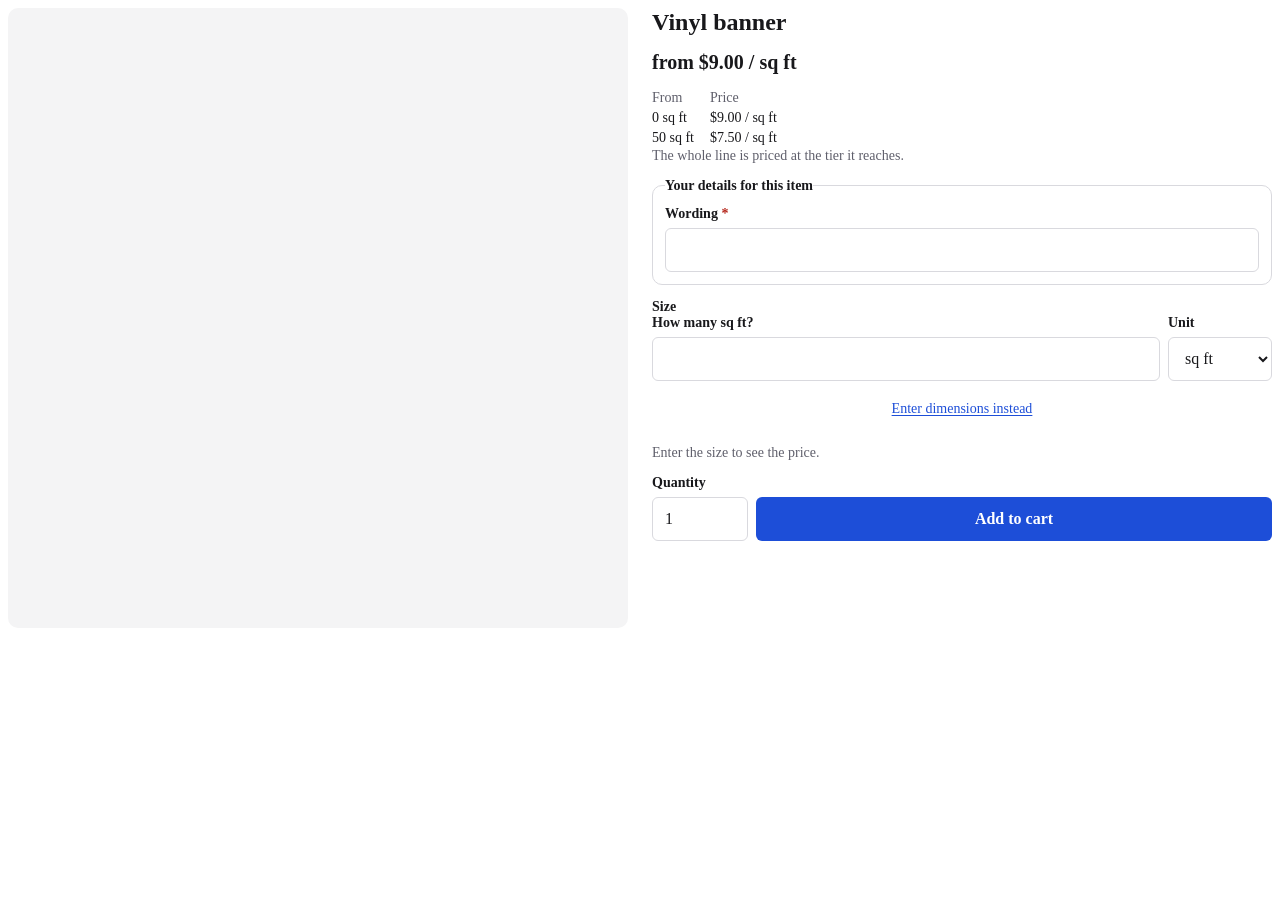
Test: <ListingDetail> › prices a typed size with a one-line quote and keeps a half-typed draft
Expected: the text "from $9.00 / sq ft" is shown, [652, 51, 797, 73]
Expected: the text "Enter the size to see the price." is shown, [652, 445, 820, 460]
Type "9." into the field labelled "How many sq ft?".
click(906, 359); type("9.")  # box [652, 337, 1160, 381]
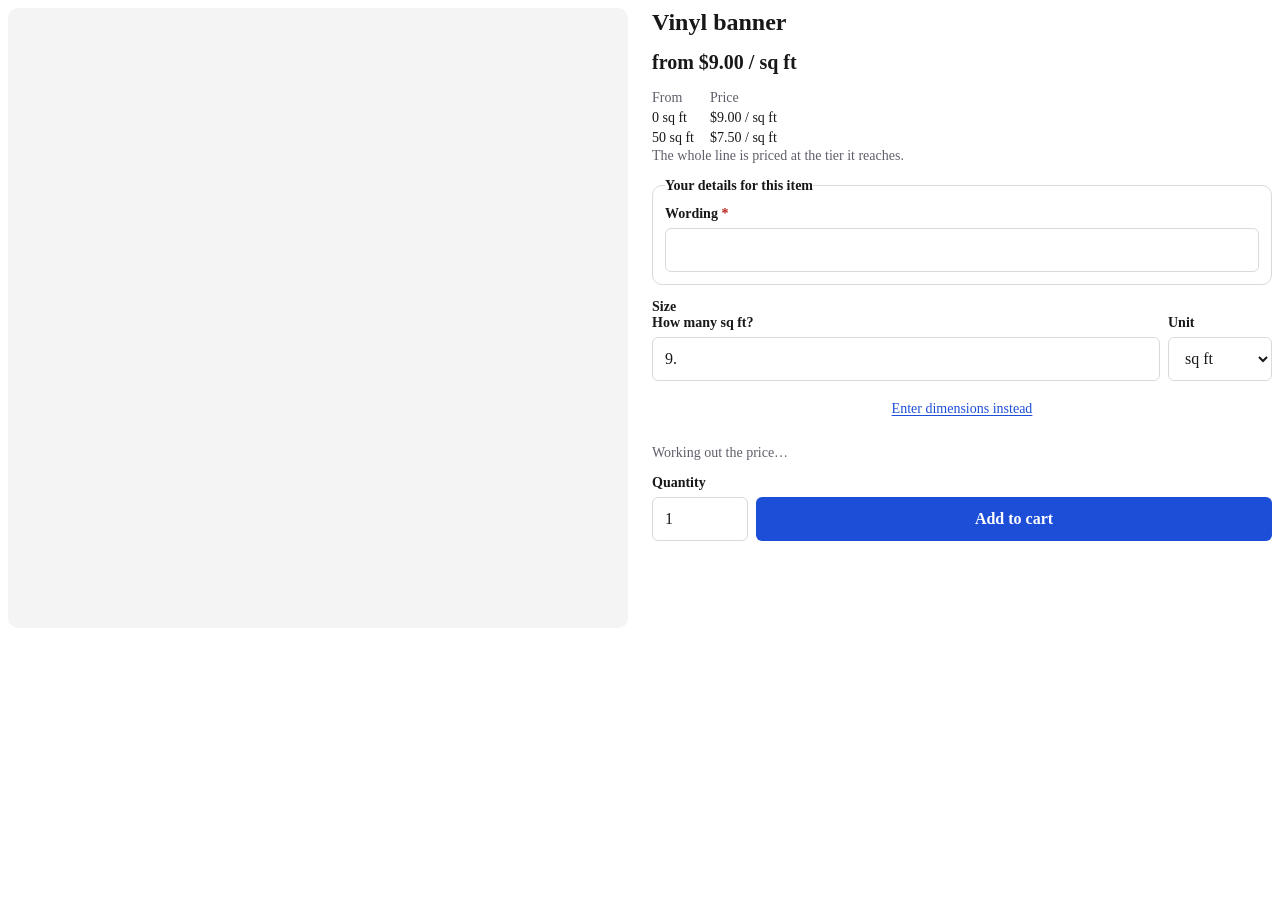
Replace the text in the field labelled "How many sq ft?" with "96" at (906, 359), box [652, 337, 1160, 381]
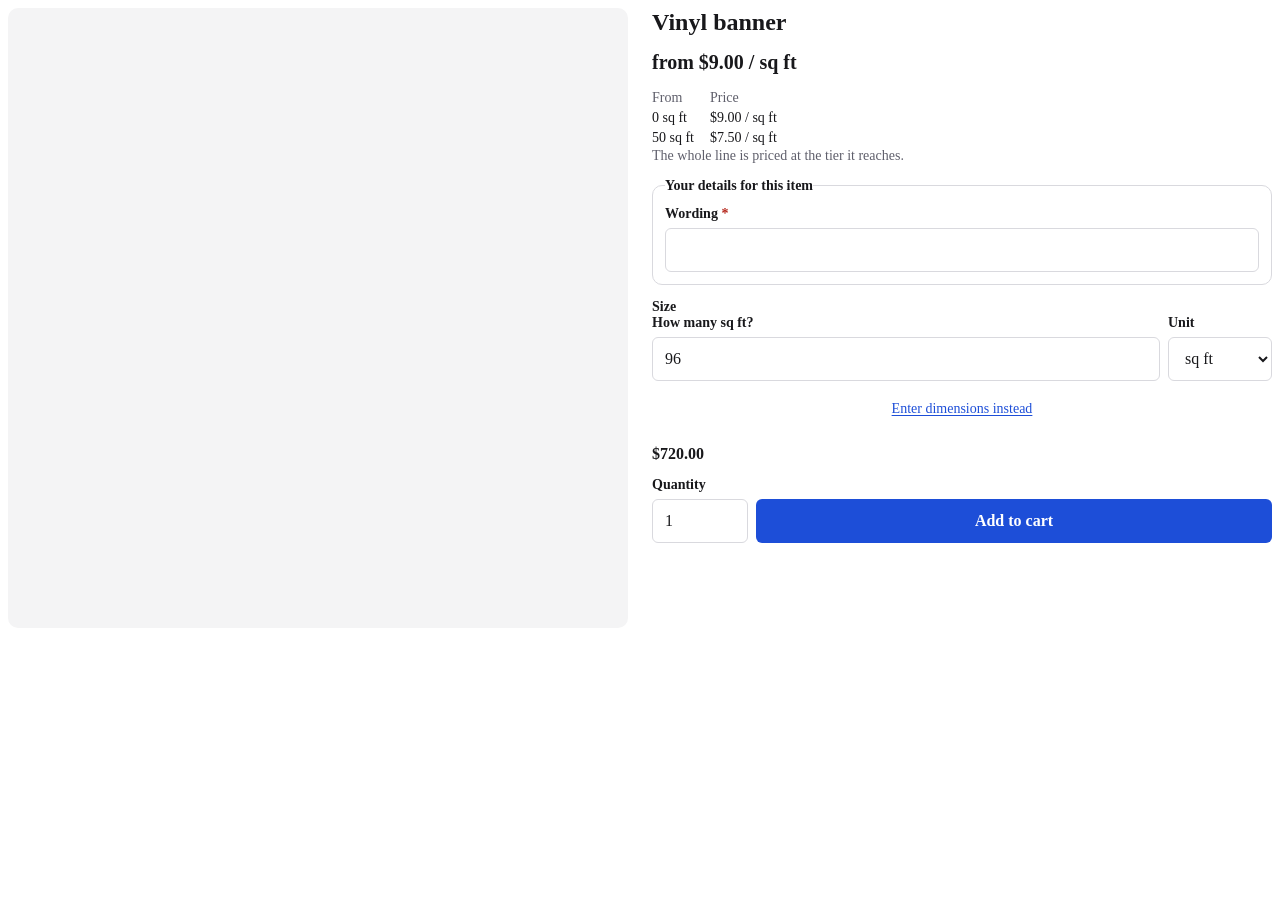
Result: the text "$720.00" is shown at [652, 445, 704, 463]
# Required wording: the add is refused and said on the field.
Click the button "Add to cart".
click(1014, 521)  # box [756, 499, 1272, 543]
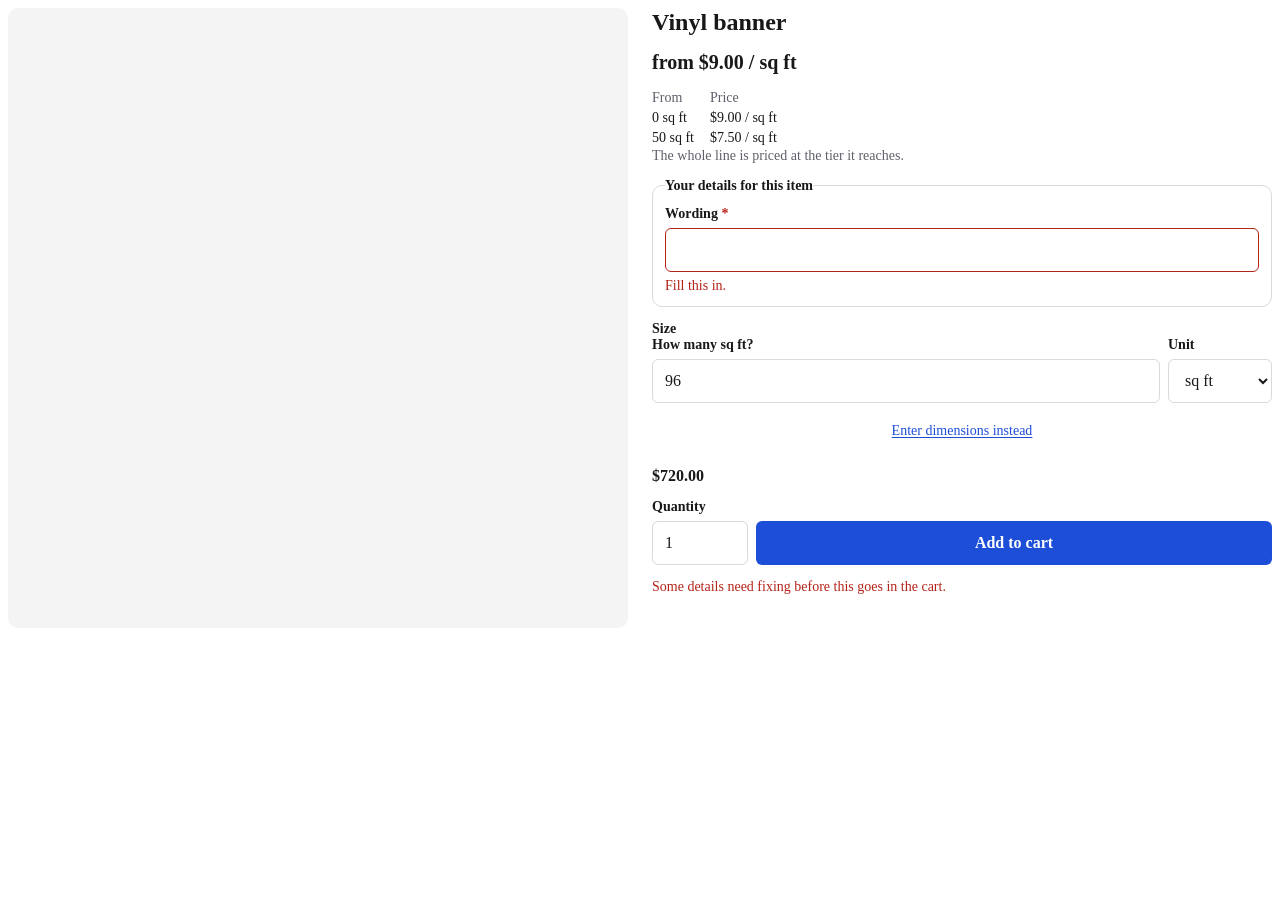
Result: the text "Fill this in." is shown at [665, 278, 726, 293]
Type "GRAND OPENING" into the field labelled "Wording *".
click(962, 250); type("GRAND OPENING")  # box [665, 228, 1259, 272]
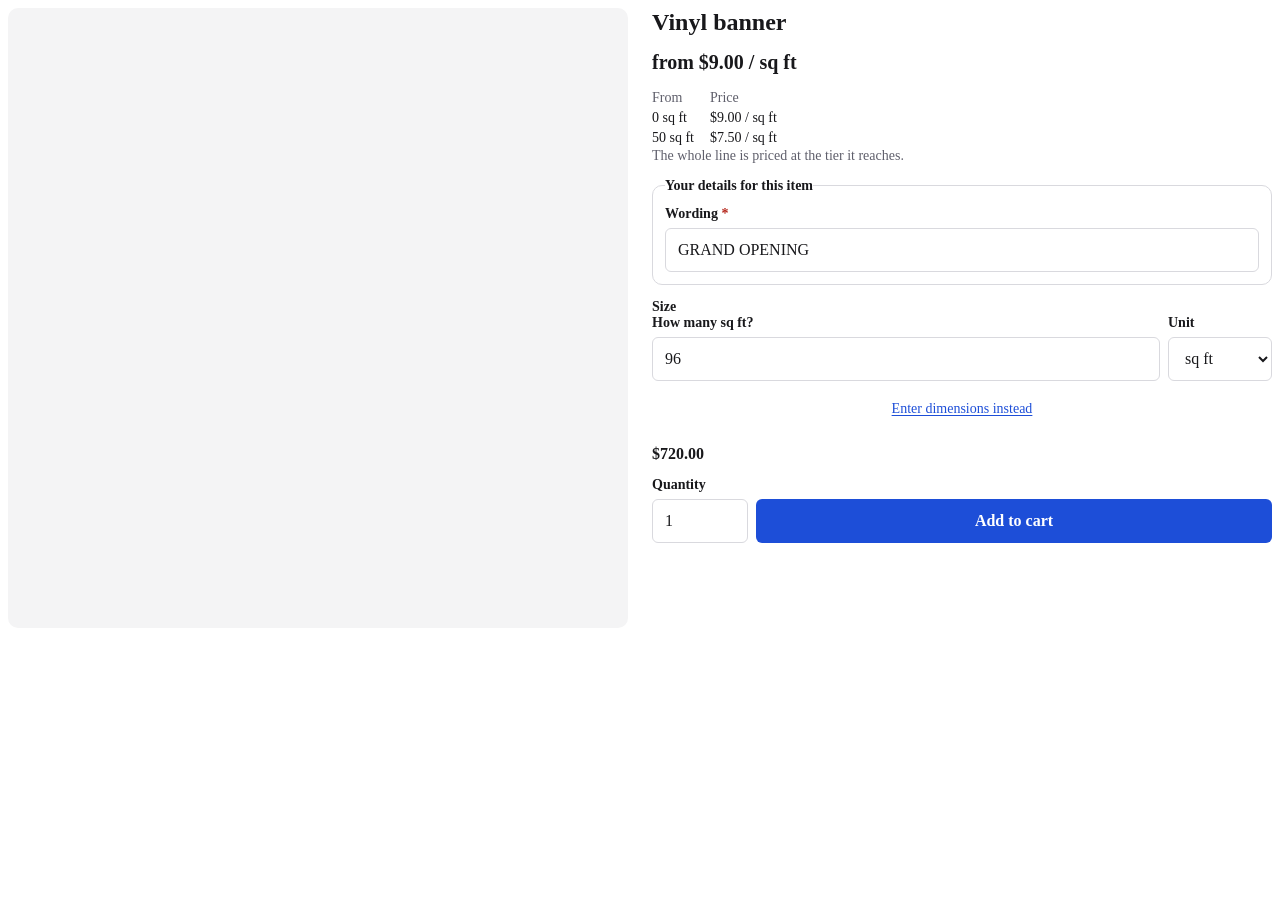
Click the button "Add to cart".
click(1014, 521)  # box [756, 499, 1272, 543]
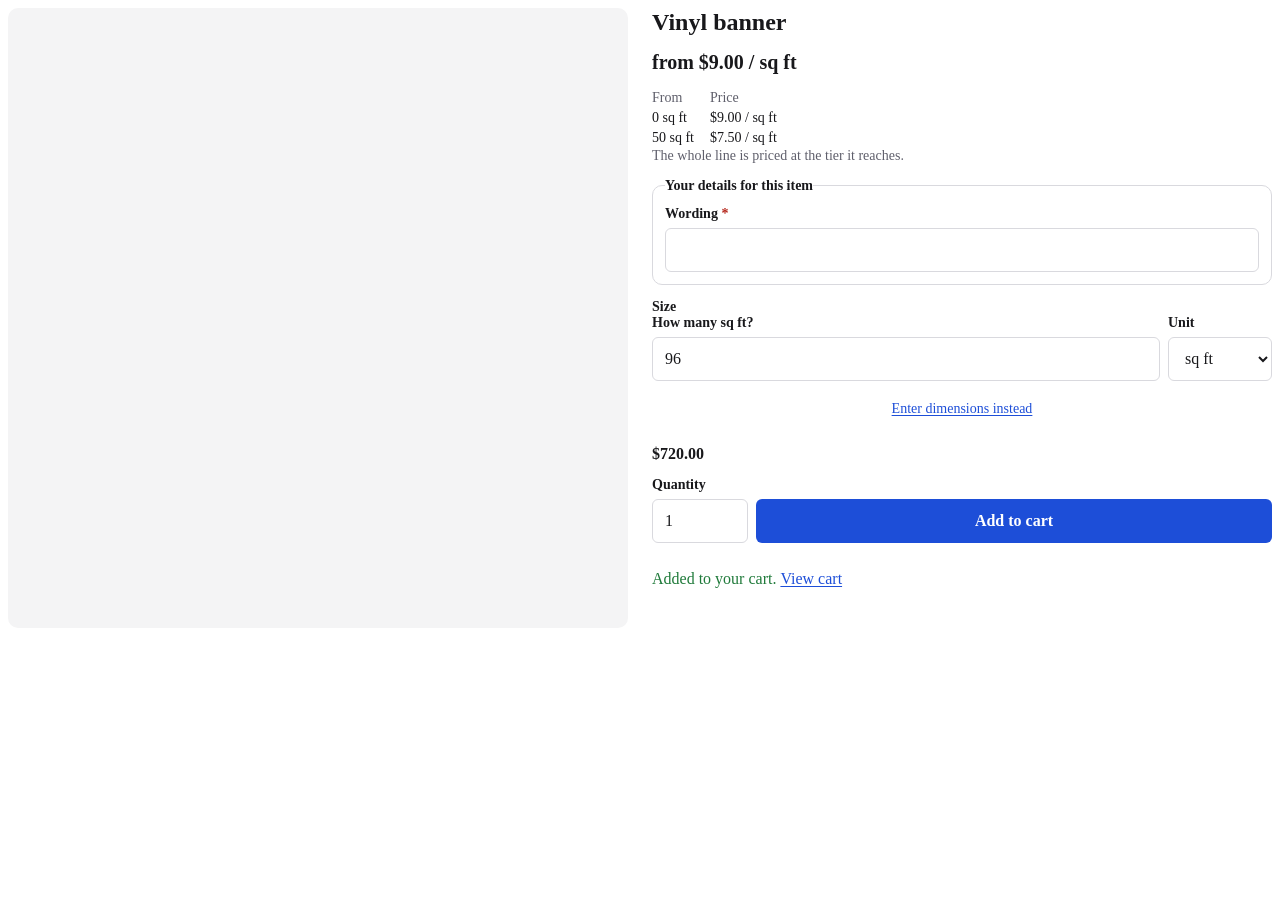
Result: the text "Added to your cart. View cart" is shown at [652, 570, 842, 587]
